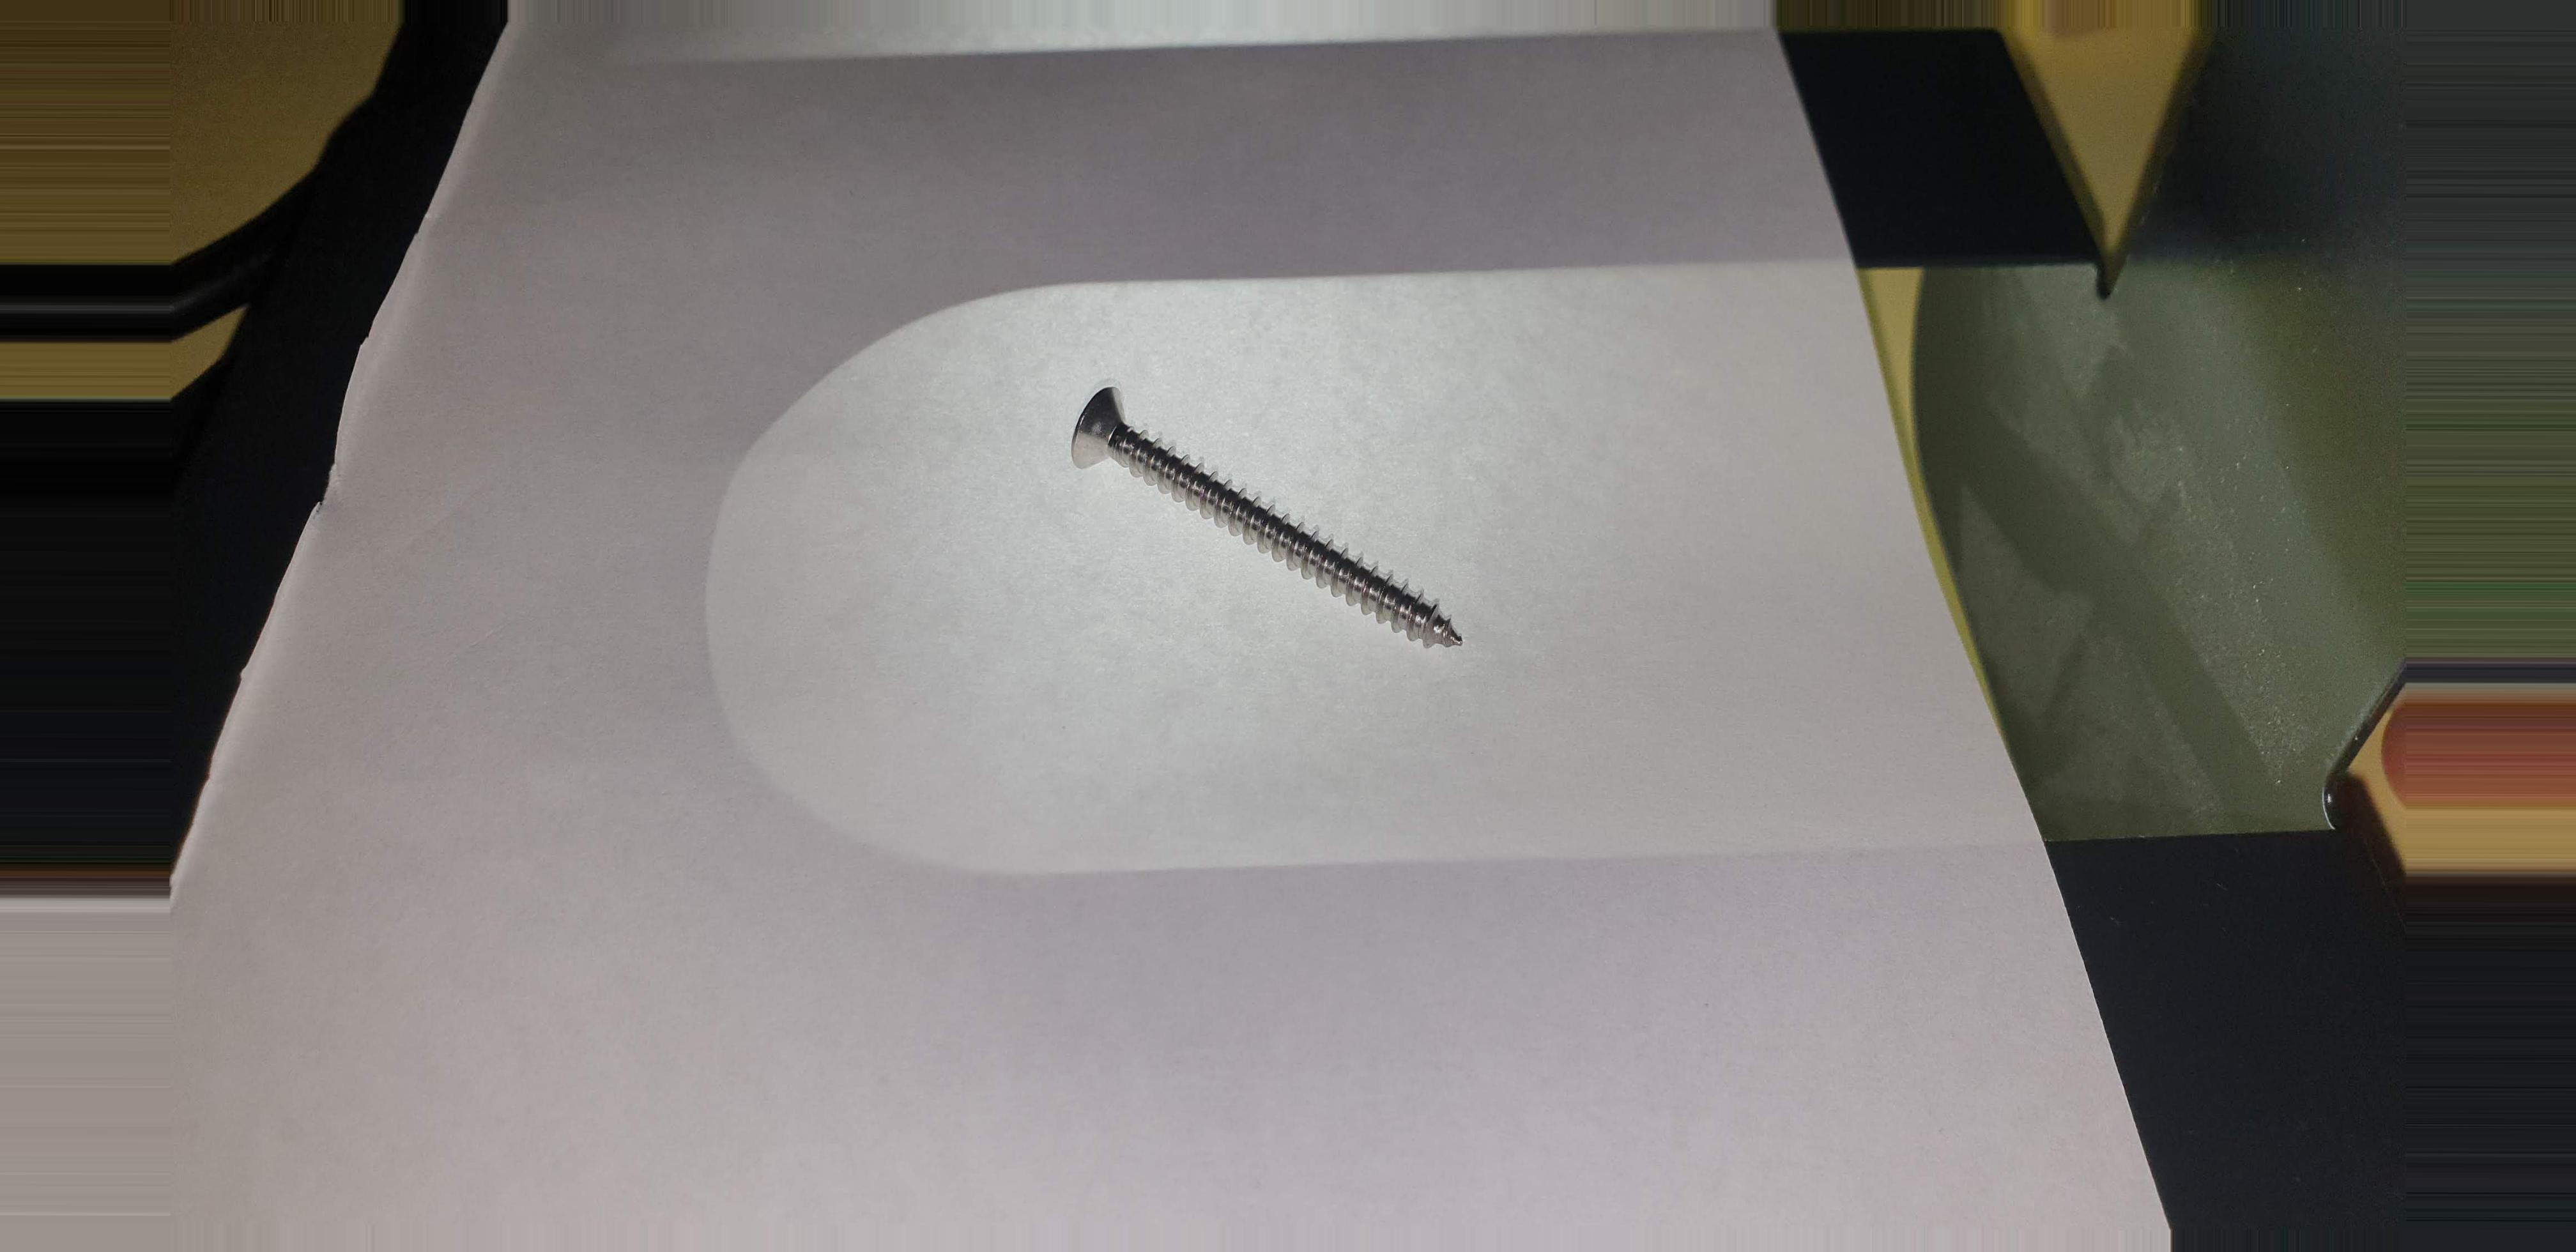fastener: (1002, 350, 1603, 707)
